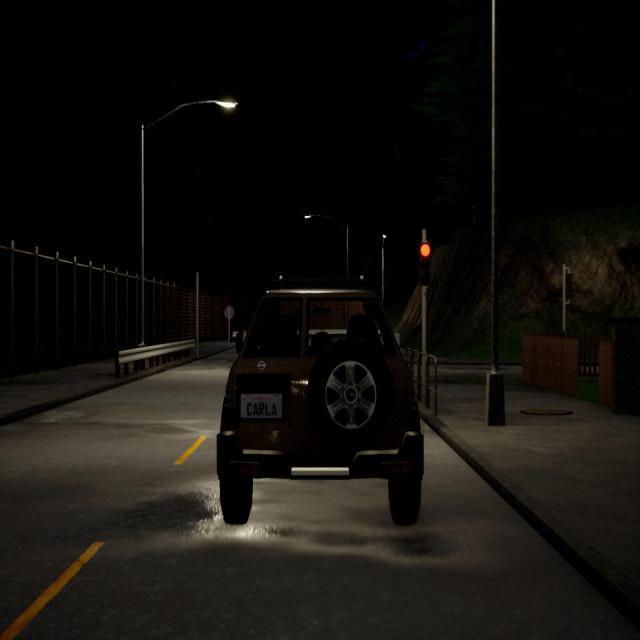Traffic_Signs: (223, 306, 235, 320)
Vehicle: (217, 280, 423, 525)
traffic_light: (419, 243, 432, 287), (564, 270, 574, 303)
